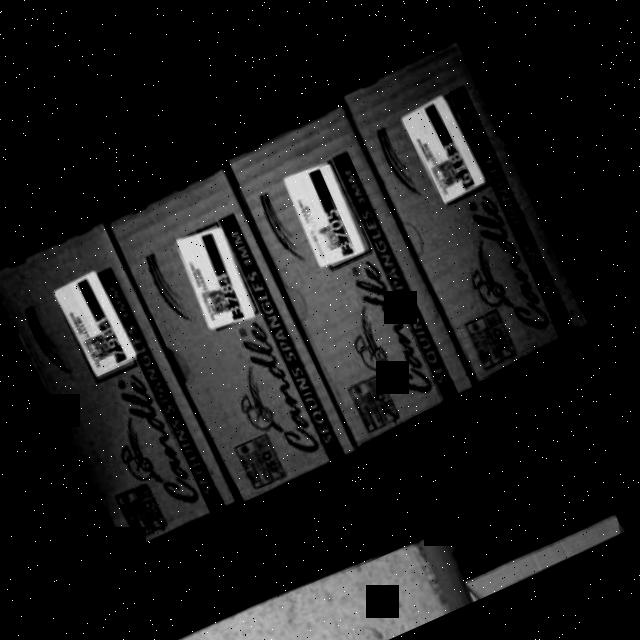box: (345, 39, 594, 387), (230, 109, 477, 448), (113, 167, 358, 502), (0, 217, 235, 557)
